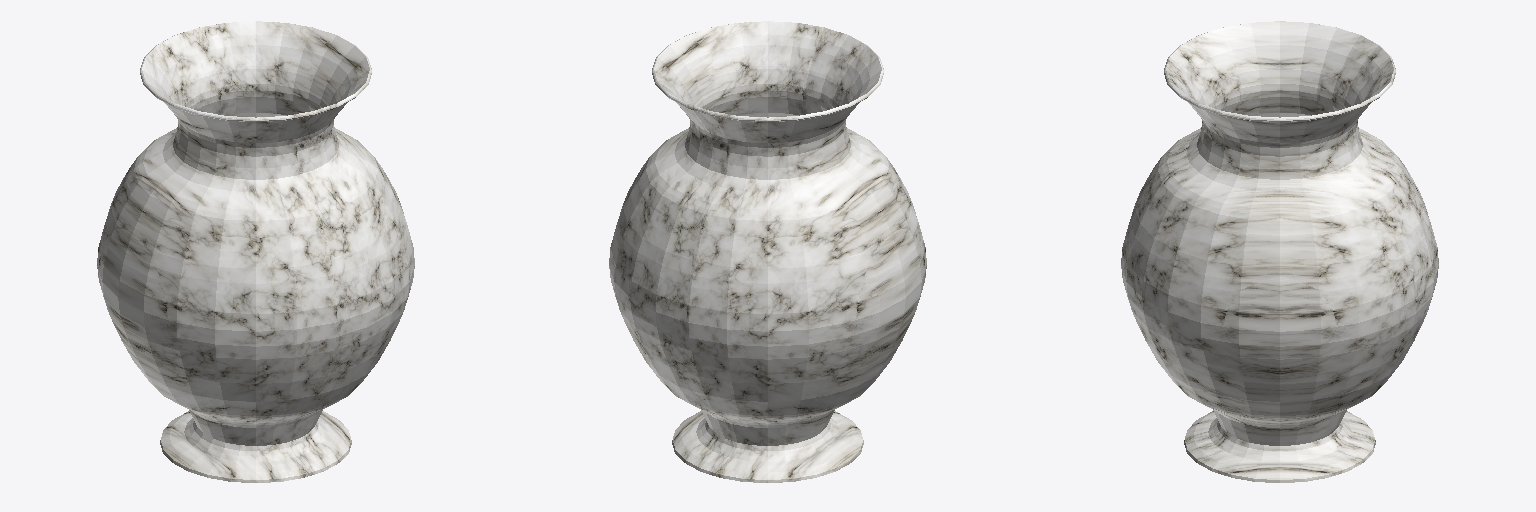
3 renders of one model, left to right at view 1: azimuth 30°, elevation 25°; view 2: azimuth 150°, elevation 25°; view 3: azimuth 270°, elevation 25°, orthographic.
Visible parts, largest first — view 1: Mesh1 Group1 Model; view 2: Mesh1 Group1 Model; view 3: Mesh1 Group1 Model.
Part boxes in pixels (left/top/right/bottom): Mesh1 Group1 Model: left=97, top=21, right=414, bottom=482; Mesh1 Group1 Model: left=609, top=21, right=926, bottom=482; Mesh1 Group1 Model: left=1121, top=21, right=1438, bottom=482.
Size of the model in its own units: 43.56 by 56.41 by 43.56.
1 materials, 1 textured.